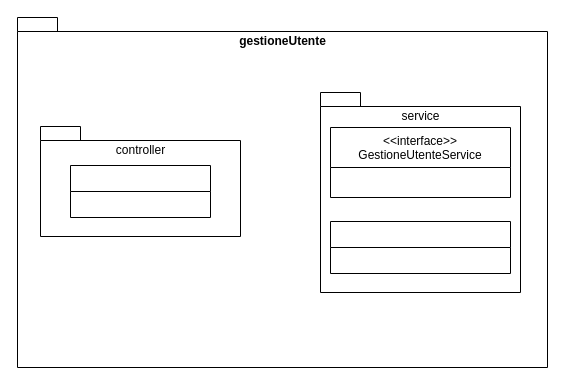
Some shapes in this 565 by 385 pixel diagram are drawn without their labels. Each missing label, with the centre of its shape:
"GestioneUtenteController" goes at (140,191).
"GestioneUtenteServiceImpl" goes at (420,247).
